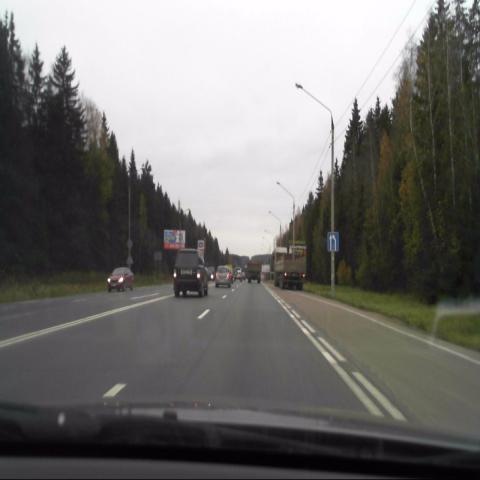5_15_5: (328, 232, 338, 251)
